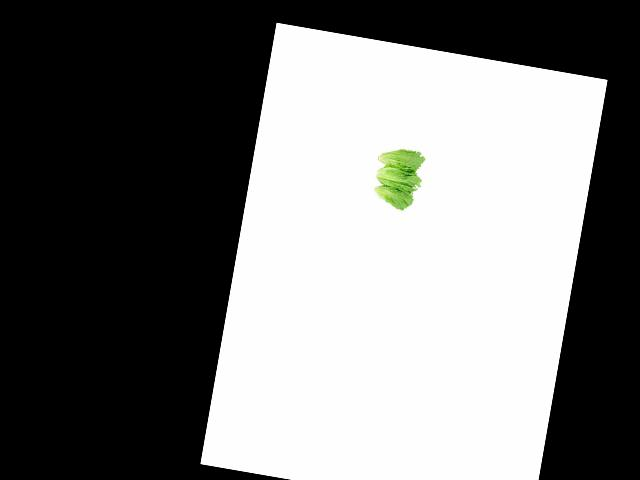lettuce: (361, 179, 416, 212)
